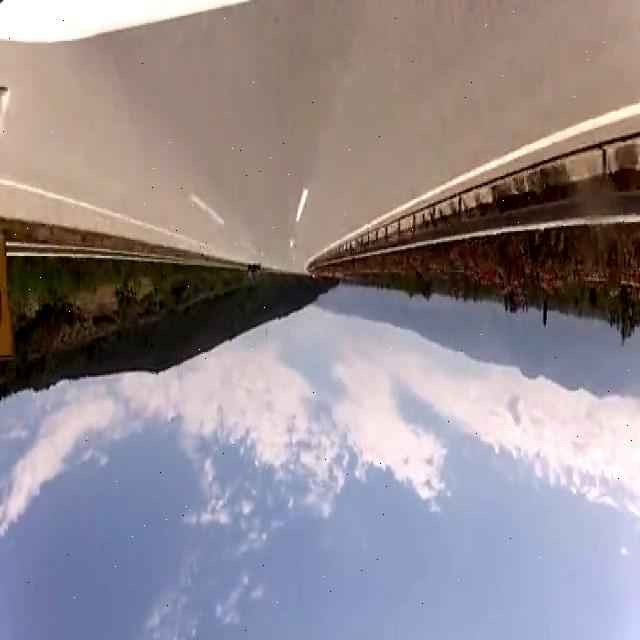lane: (309, 102, 640, 261), (0, 179, 196, 241), (190, 194, 224, 223), (297, 190, 309, 222)
road: (1, 2, 636, 272)
